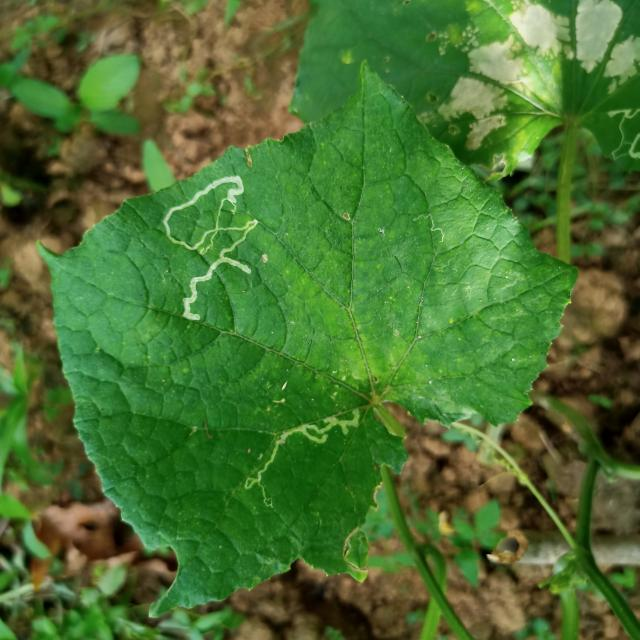disease_cucumber: (423, 2, 638, 155)
